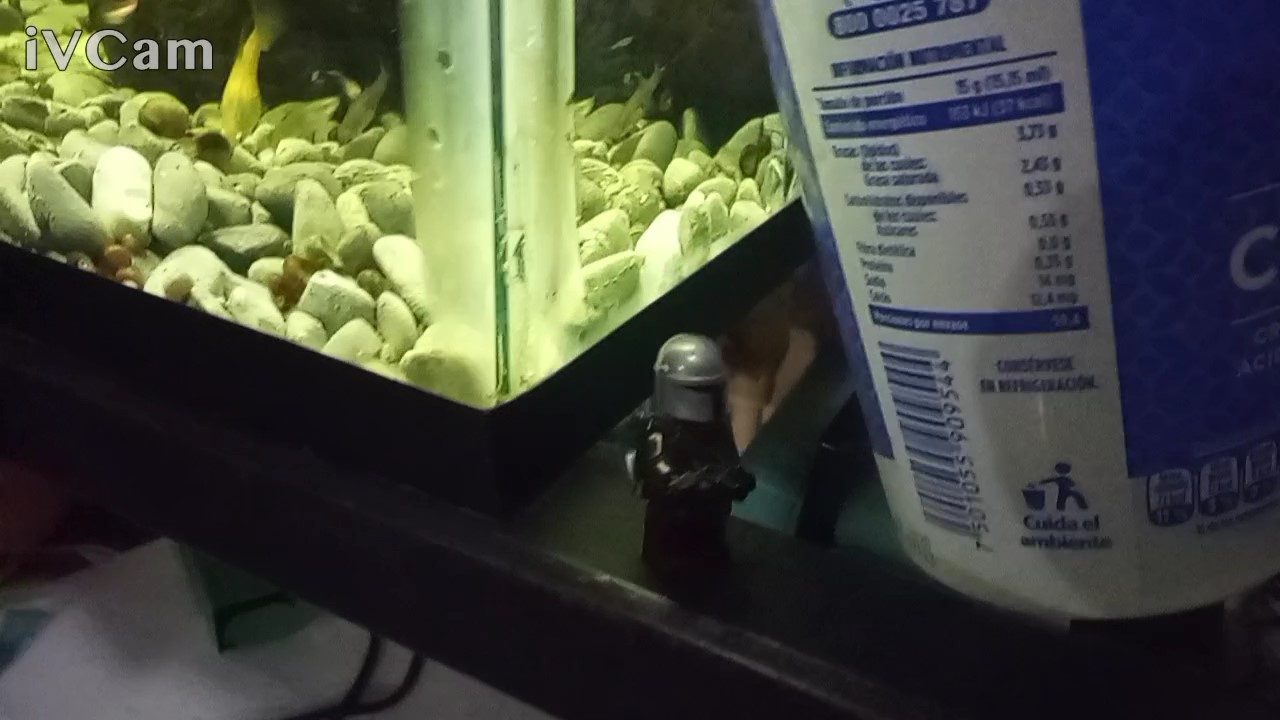mandalorian: (617, 311, 780, 602)
